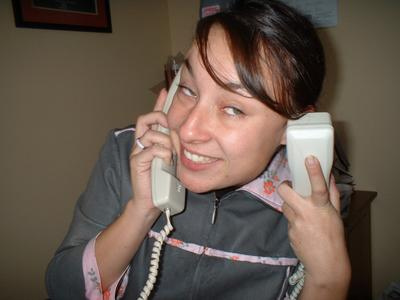person: (45, 1, 355, 300)
